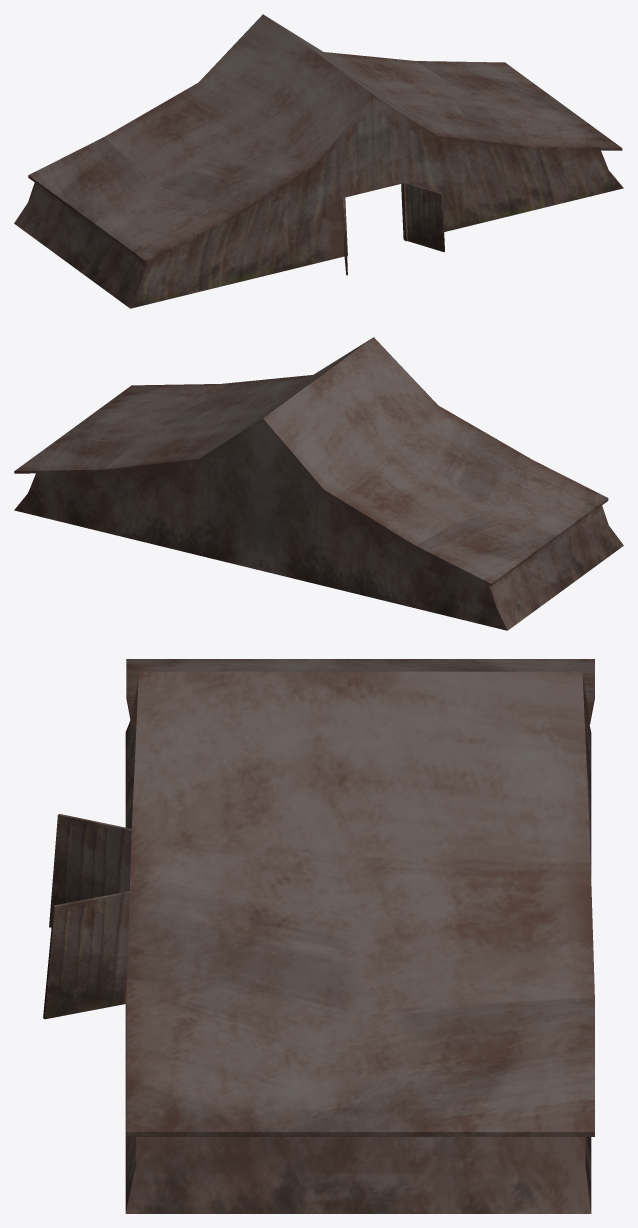
Rendered from castle and barn.glb.
The picture shows the model from 3 angles, top to bottom: view 1: azimuth 30°, elevation 25°; view 2: azimuth 150°, elevation 25°; view 3: azimuth 270°, elevation 25°; orthographic projection. The views are drawn at different scales.
Visible parts, largest first — view 1: Cube; view 2: Cube; view 3: Cube.
Part boxes in pixels (x1,y1,x2,y2): Cube: [14, 14, 623, 308]; Cube: [14, 337, 623, 630]; Cube: [43, 659, 594, 1213].
Bounding box in the file's own units: 32.36 × 9.49 × 15.67.
2 materials, 1 textured.
